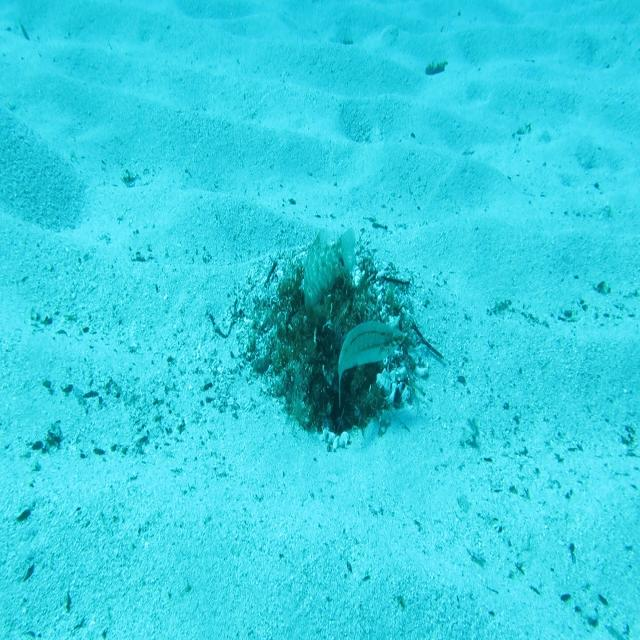NIP_CORE: (301, 221, 357, 316)
core_nest: (300, 278, 350, 334)
female: (336, 316, 406, 412)
nest: (226, 220, 438, 457)
vegetation: (423, 60, 451, 77)
